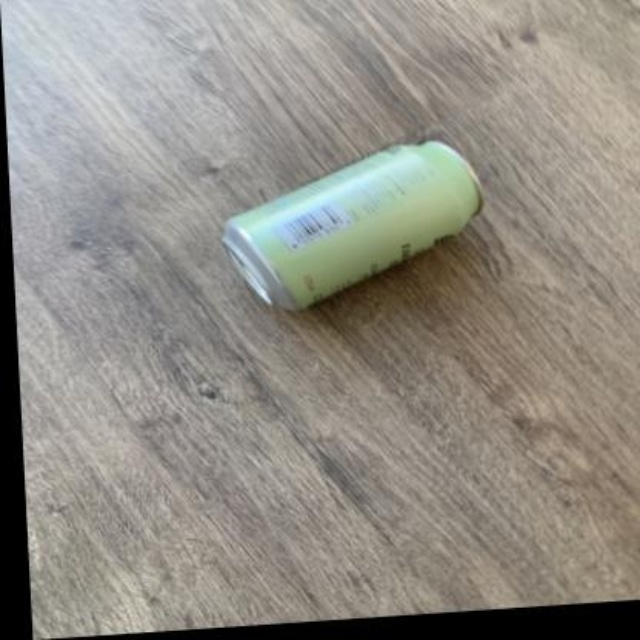trash: (222, 142, 482, 309)
